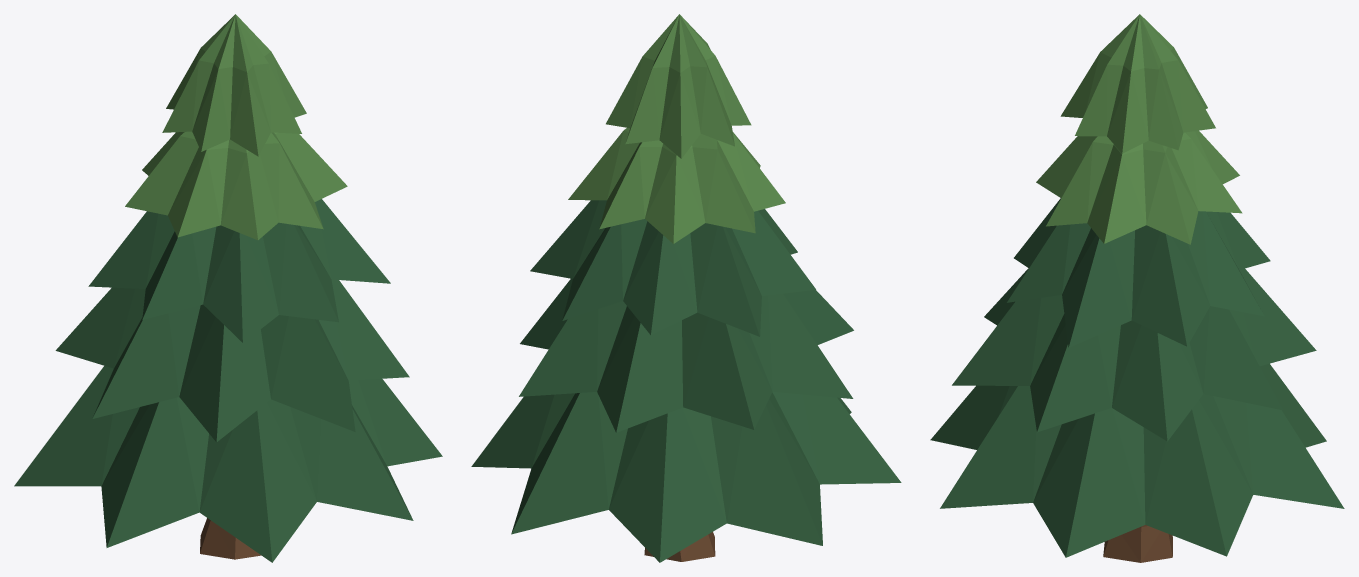
The model's file is SM_Tree_Pine_C.fbx.
3 renders of one model, left to right at view 1: azimuth 30°, elevation 25°; view 2: azimuth 150°, elevation 25°; view 3: azimuth 270°, elevation 25°, orthographic.
Parts seen in each view (by area): view 1: SM_Tree_Pine_C; view 2: SM_Tree_Pine_C; view 3: SM_Tree_Pine_C.
Boxes of the visible parts, bbox=[...] form: SM_Tree_Pine_C: bbox=[14, 14, 442, 562]; SM_Tree_Pine_C: bbox=[471, 14, 901, 562]; SM_Tree_Pine_C: bbox=[930, 14, 1344, 562].
Bounding box in the file's own units: 4.18 × 6.01 × 4.23.
